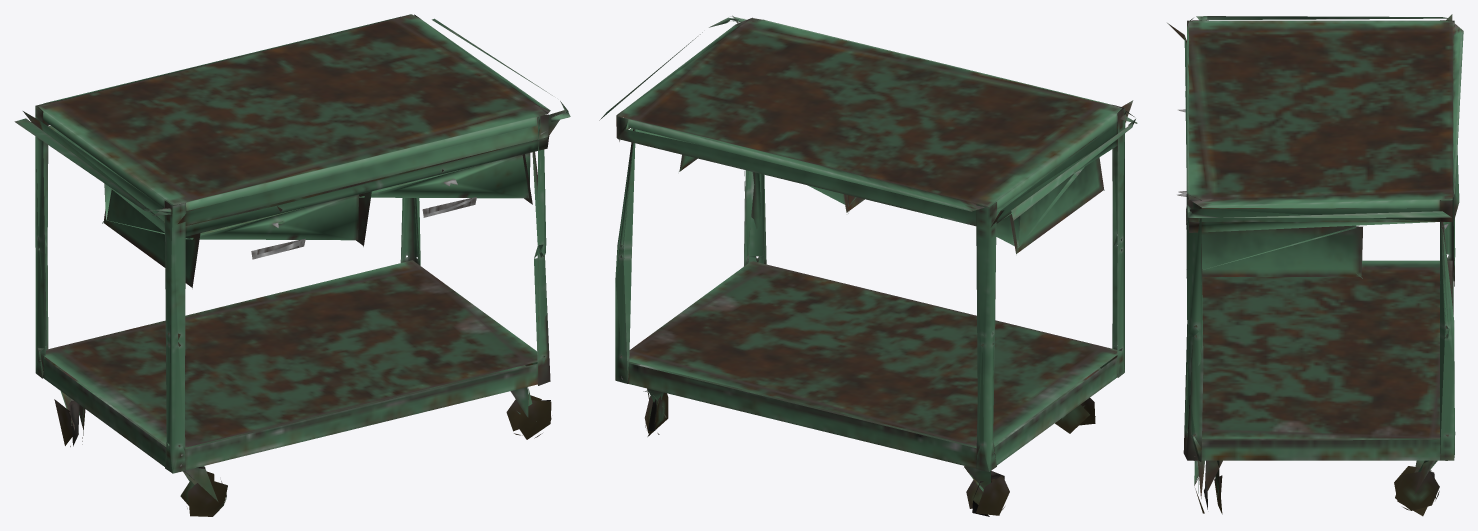
File: Cart_Medical.fbx
3 views of the same model, side by side, from view 1: azimuth 30°, elevation 25°; view 2: azimuth 150°, elevation 25°; view 3: azimuth 270°, elevation 25° (orthographic). The views are drawn at different scales.
Visible parts, largest first — view 1: каталка какая-то; view 2: каталка какая-то; view 3: каталка какая-то.
Boxes of the visible parts, <box> form: каталка какая-то: <box>14,14,570,516</box>; каталка какая-то: <box>599,15,1137,516</box>; каталка какая-то: <box>1167,14,1463,516</box>.
Size of the model in its own units: 1.28 by 0.9536 by 0.7926.
1 material, 1 textured.
